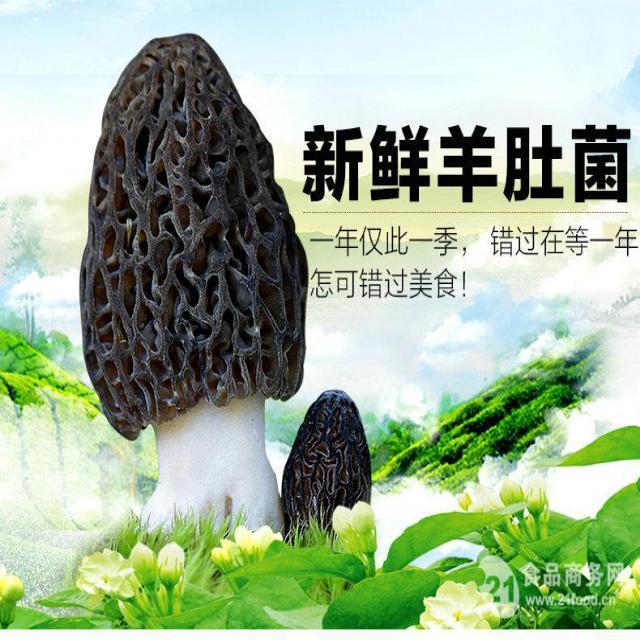Morchella esculenta: (77, 35, 308, 549), (280, 388, 372, 555)
